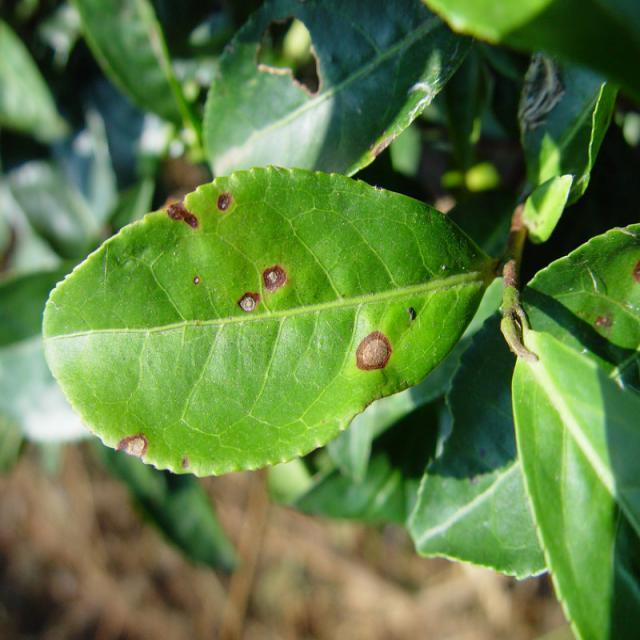Tea cloud leaf blight: (350, 326, 398, 374), (259, 261, 292, 294), (238, 283, 260, 315)
